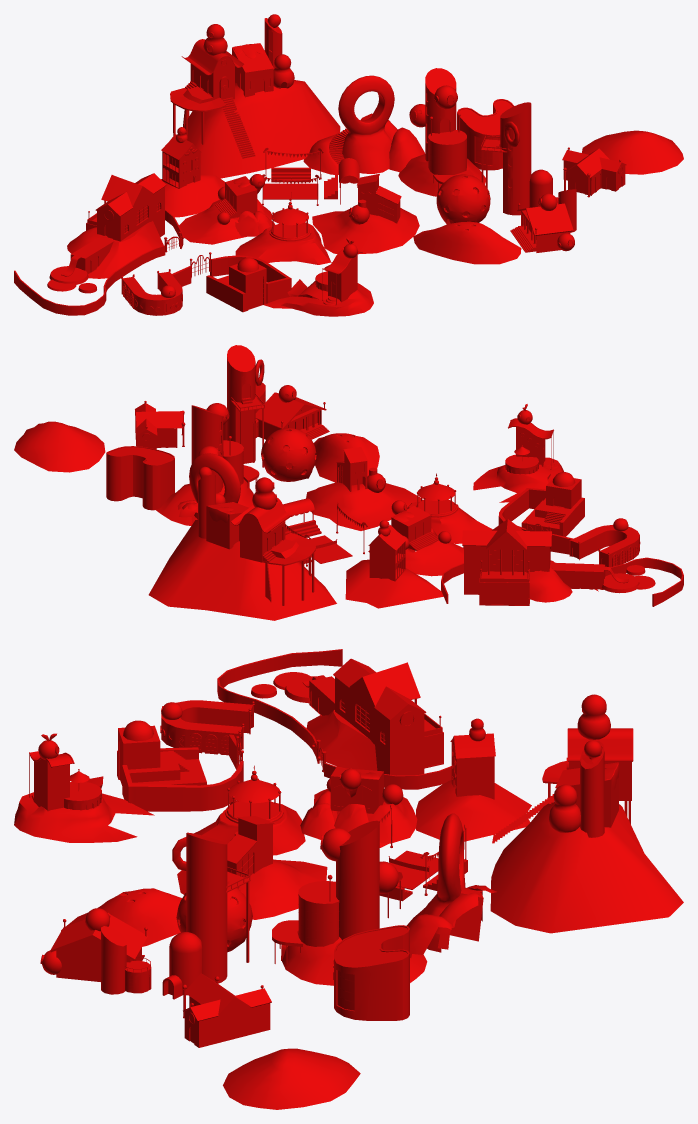
Rendered from Neighborhood_BeverlyChills_03.glb.
The picture shows the model from 3 angles, top to bottom: view 1: azimuth 30°, elevation 25°; view 2: azimuth 150°, elevation 25°; view 3: azimuth 270°, elevation 25°; orthographic projection. The views are drawn at different scales.
Visible parts, largest first — view 1: BEVERLYCHILLS_OBJECT_83, BEVERLYCHILLS_OBJECT_40, BEVERLYCHILLS_OBJECT_79, BEVERLYCHILLS_OBJECT_46, BEVERLYCHILLS_OBJECT_77, BEVERLYCHILLS_OBJECT_45, BEVERLYCHILLS_OBJECT_84, BEVERLYCHILLS_OBJECT_60, BEVERLYCHILLS_OBJECT_62, BEVERLYCHILLS_OBJECT_59, BEVERLYCHILLS_OBJECT_41, BEVERLYCHILLS_OBJECT_3 (+11 smaller); view 2: BEVERLYCHILLS_OBJECT_40, BEVERLYCHILLS_OBJECT_79, BEVERLYCHILLS_OBJECT_83, BEVERLYCHILLS_OBJECT_45, BEVERLYCHILLS_OBJECT_60, BEVERLYCHILLS_OBJECT_77, BEVERLYCHILLS_OBJECT_76, BEVERLYCHILLS_OBJECT_59, BEVERLYCHILLS_OBJECT_84, BEVERLYCHILLS_OBJECT_62, BEVERLYCHILLS_OBJECT_81, BEVERLYCHILLS_OBJECT_41 (+11 smaller); view 3: BEVERLYCHILLS_OBJECT_40, BEVERLYCHILLS_OBJECT_79, BEVERLYCHILLS_OBJECT_83, BEVERLYCHILLS_OBJECT_77, BEVERLYCHILLS_OBJECT_84, BEVERLYCHILLS_OBJECT_59, BEVERLYCHILLS_OBJECT_60, BEVERLYCHILLS_OBJECT_76, BEVERLYCHILLS_OBJECT_41, BEVERLYCHILLS_OBJECT_62, BEVERLYCHILLS_OBJECT_46, BEVERLYCHILLS_OBJECT_3 (+11 smaller).
Part boxes in pixels (x1,y1,x2,y2): BEVERLYCHILLS_OBJECT_83: (312,130,683,264); BEVERLYCHILLS_OBJECT_40: (183,80,340,178); BEVERLYCHILLS_OBJECT_79: (47,173,166,293); BEVERLYCHILLS_OBJECT_46: (303,75,424,174); BEVERLYCHILLS_OBJECT_77: (398,68,485,196); BEVERLYCHILLS_OBJECT_45: (170,24,255,158); BEVERLYCHILLS_OBJECT_84: (481,102,558,215); BEVERLYCHILLS_OBJECT_60: (172,252,291,312); BEVERLYCHILLS_OBJECT_62: (179,174,275,244); BEVERLYCHILLS_OBJECT_59: (264,238,373,316); BEVERLYCHILLS_OBJECT_41: (510,189,576,252); BEVERLYCHILLS_OBJECT_3: (232,14,294,97); BEVERLYCHILLS_OBJECT_40: (148,519,336,620); BEVERLYCHILLS_OBJECT_79: (462,519,655,605); BEVERLYCHILLS_OBJECT_83: (14,421,420,530); BEVERLYCHILLS_OBJECT_45: (231,477,315,605); BEVERLYCHILLS_OBJECT_60: (498,472,584,554); BEVERLYCHILLS_OBJECT_77: (156,403,259,525); BEVERLYCHILLS_OBJECT_76: (106,446,174,510); BEVERLYCHILLS_OBJECT_59: (473,404,563,502); BEVERLYCHILLS_OBJECT_84: (223,345,264,467); BEVERLYCHILLS_OBJECT_62: (368,500,463,576); BEVERLYCHILLS_OBJECT_81: (345,559,443,608); BEVERLYCHILLS_OBJECT_41: (255,382,329,439); BEVERLYCHILLS_OBJECT_40: (490,801,683,933); BEVERLYCHILLS_OBJECT_79: (251,658,443,775); BEVERLYCHILLS_OBJECT_83: (61,859,360,1109); BEVERLYCHILLS_OBJECT_77: (272,820,427,985); BEVERLYCHILLS_OBJECT_84: (162,832,250,999); BEVERLYCHILLS_OBJECT_59: (14,733,154,842); BEVERLYCHILLS_OBJECT_60: (117,720,243,811); BEVERLYCHILLS_OBJECT_76: (333,925,409,1020); BEVERLYCHILLS_OBJECT_41: (40,908,151,994); BEVERLYCHILLS_OBJECT_62: (300,767,417,847); BEVERLYCHILLS_OBJECT_46: (406,813,496,957); BEVERLYCHILLS_OBJECT_3: (549,740,619,837).
Size of the model in its own units: 98.44 by 18.65 by 63.52.
